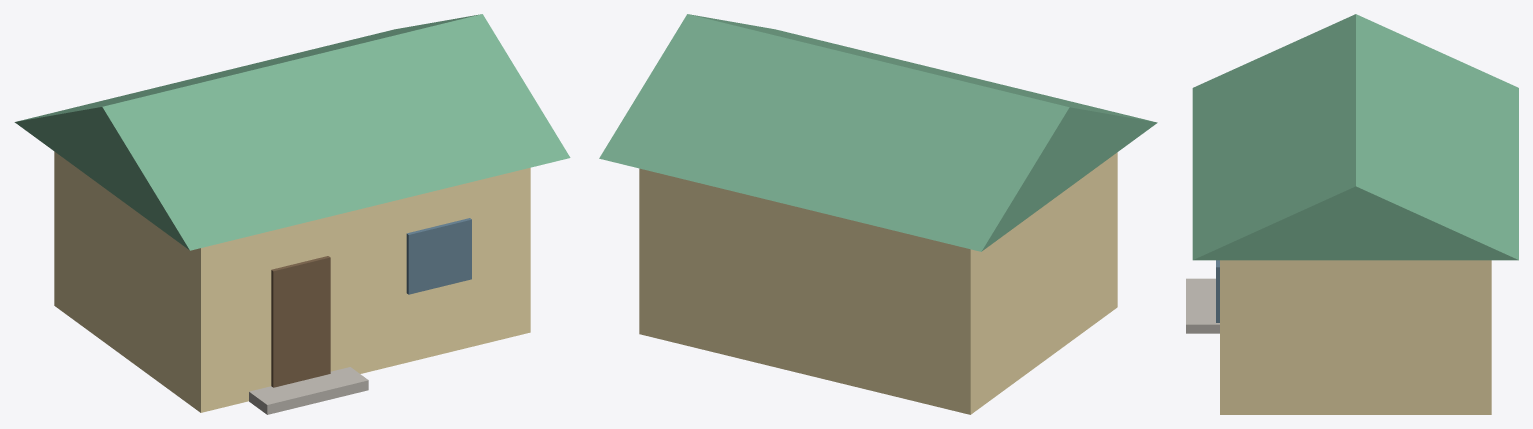
File: house-c.glb
The picture shows the model from 3 angles, left to right: view 1: azimuth 30°, elevation 25°; view 2: azimuth 150°, elevation 25°; view 3: azimuth 270°, elevation 25°; orthographic projection. The views are drawn at different scales.
Parts seen in each view (by area): view 1: r, b, d, w, s; view 2: b, r; view 3: r, b, s.
Part boxes in pixels (x1,y1,x2,y2): r: (14, 14, 570, 250); b: (54, 151, 530, 412); d: (271, 256, 330, 387); w: (406, 218, 471, 294); s: (249, 367, 368, 414); b: (639, 152, 1117, 414); r: (599, 14, 1157, 251); r: (1192, 14, 1518, 260); b: (1220, 260, 1491, 414); s: (1186, 278, 1219, 333).
Bounding box in the file's own units: 6 × 3.91 × 4.9.
